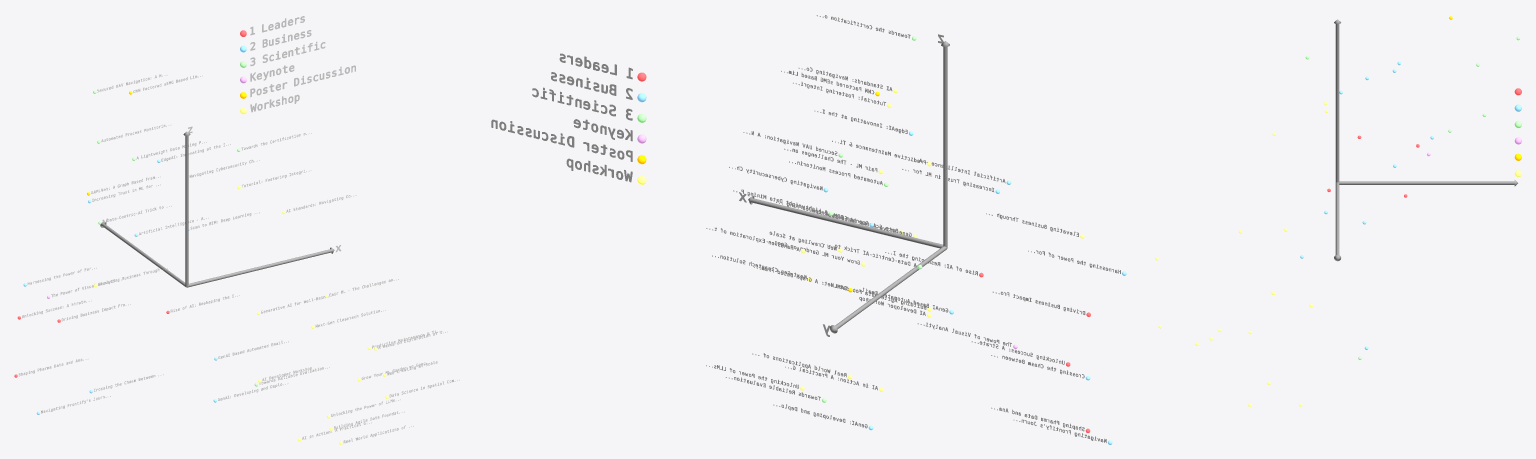
The model's file is sds2024-abstracts.glb.
3 views of the same model, side by side, from view 1: azimuth 30°, elevation 25°; view 2: azimuth 150°, elevation 25°; view 3: azimuth 270°, elevation 25° (orthographic). The views are drawn at different scales.
Visible parts, largest first — view 1: arrow_z, arrow_x; view 2: arrow_x, arrow_z, arrow_y; view 3: arrow_z, arrow_y, arrow_x.
Boxes of the visible parts, box(x1,y1,x2,y2) form: arrow_z: box(183, 131, 190, 286); arrow_x: box(187, 247, 334, 287); arrow_x: box(748, 196, 943, 248); arrow_z: box(941, 41, 949, 247); arrow_y: box(830, 246, 947, 333); arrow_z: box(1334, 19, 1340, 182); arrow_y: box(1339, 180, 1517, 186); arrow_x: box(1334, 182, 1340, 261).
Size of what is drawn, in the model's own units: 0.2743 by 0.2061 by 0.203.
Materials: 61 (54 with a texture image).
